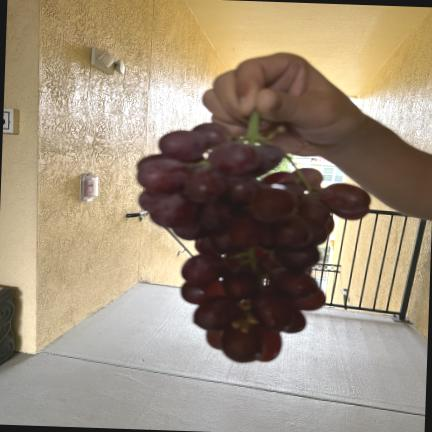grape_cluster: (137, 121, 370, 362)
